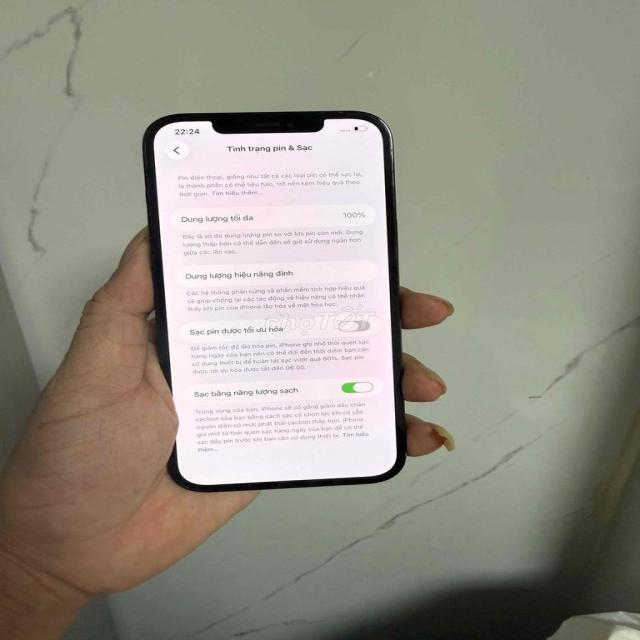gen_12_13: (140, 100, 411, 492)
